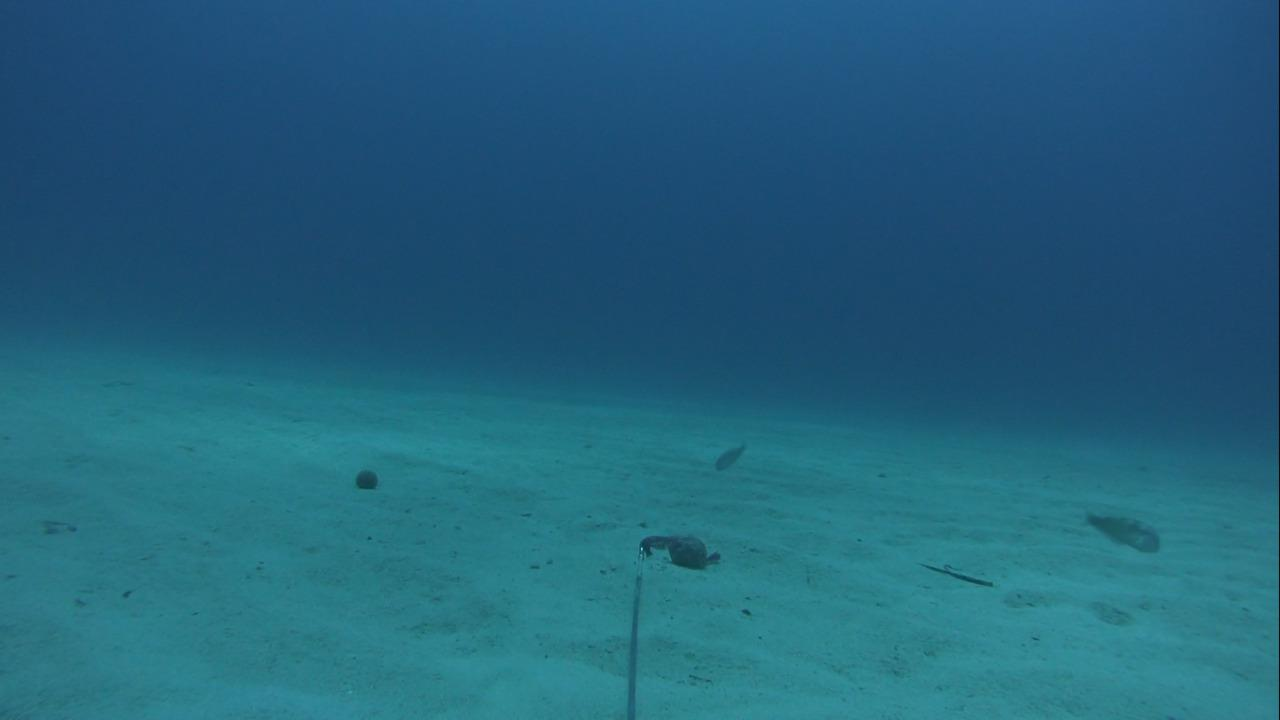raor: (1080, 508, 1163, 558), (712, 441, 749, 471)
